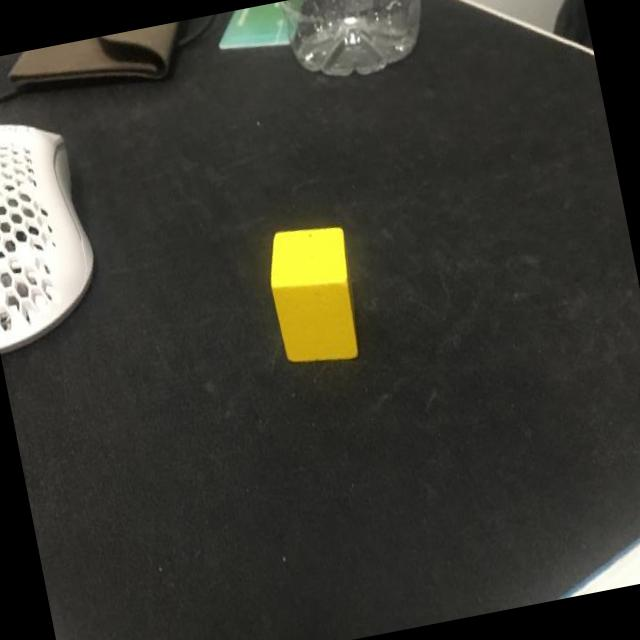yellow: (262, 220, 368, 372)
